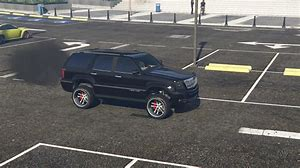smoke: (11, 41, 63, 88)
